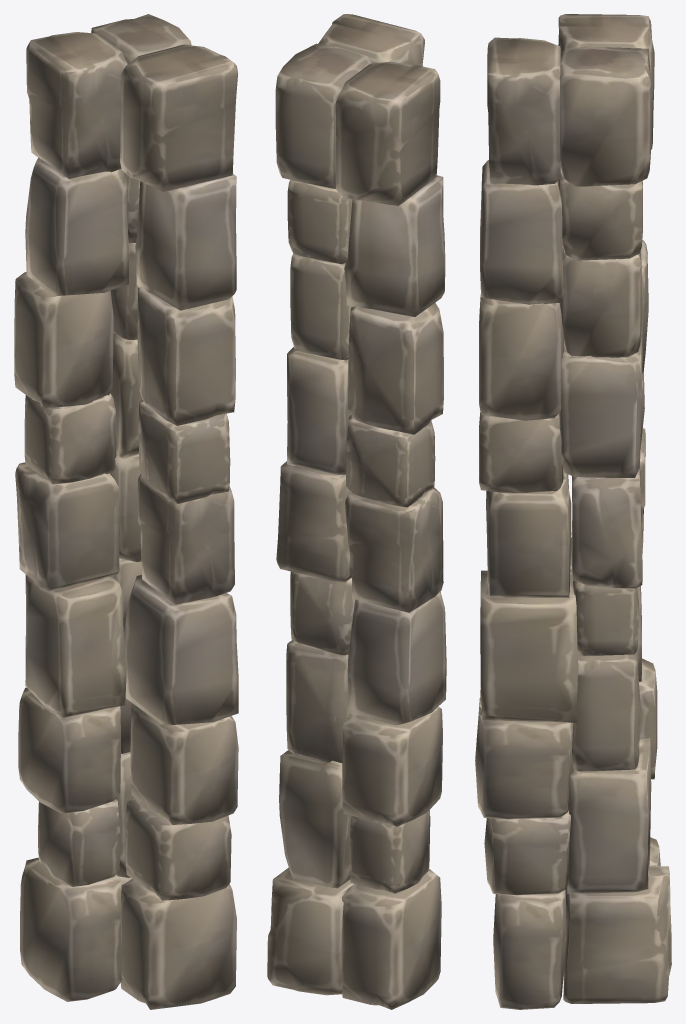
File: Corner_Exterior_Brick.glb
3 renders of one model, left to right at view 1: azimuth 30°, elevation 25°; view 2: azimuth 150°, elevation 25°; view 3: azimuth 270°, elevation 25°, orthographic. The views are drawn at different scales.
Visible parts, largest first — view 1: Corner_Exterior_Brick; view 2: Corner_Exterior_Brick; view 3: Corner_Exterior_Brick.
Boxes of the visible parts, bbox=[...] form: Corner_Exterior_Brick: bbox=[14, 14, 238, 1009]; Corner_Exterior_Brick: bbox=[267, 14, 446, 1009]; Corner_Exterior_Brick: bbox=[475, 14, 671, 1009].
Bounding box in the file's own units: 0.5305 × 3.02 × 0.5758.
Materials: 1 (1 with a texture image).
